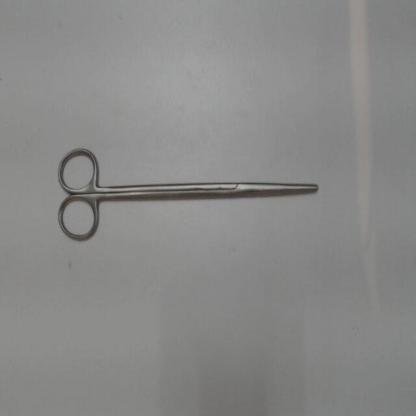9 Metzenbaum Scissors: (53, 141, 325, 249)
